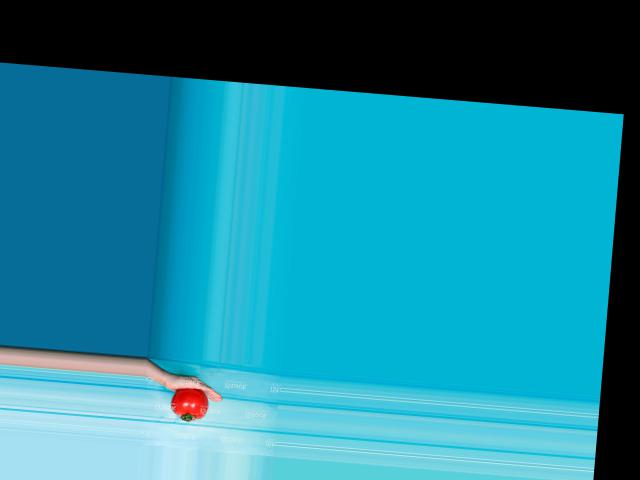tomato: (170, 386, 210, 422)
